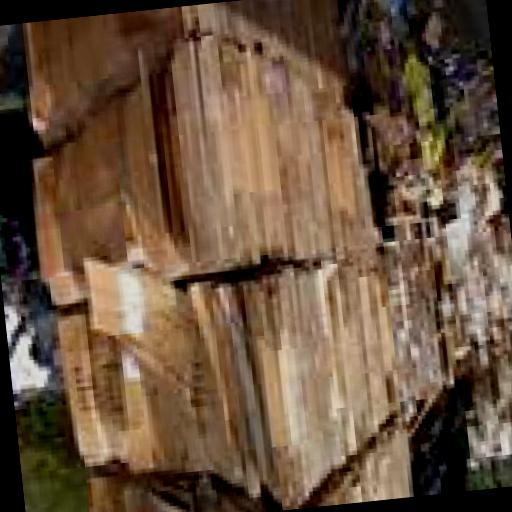cardboard: (10, 24, 380, 315), (52, 265, 415, 512), (15, 0, 350, 154), (80, 422, 409, 512), (349, 0, 453, 232), (426, 153, 512, 383), (384, 238, 454, 434), (457, 360, 512, 471)
